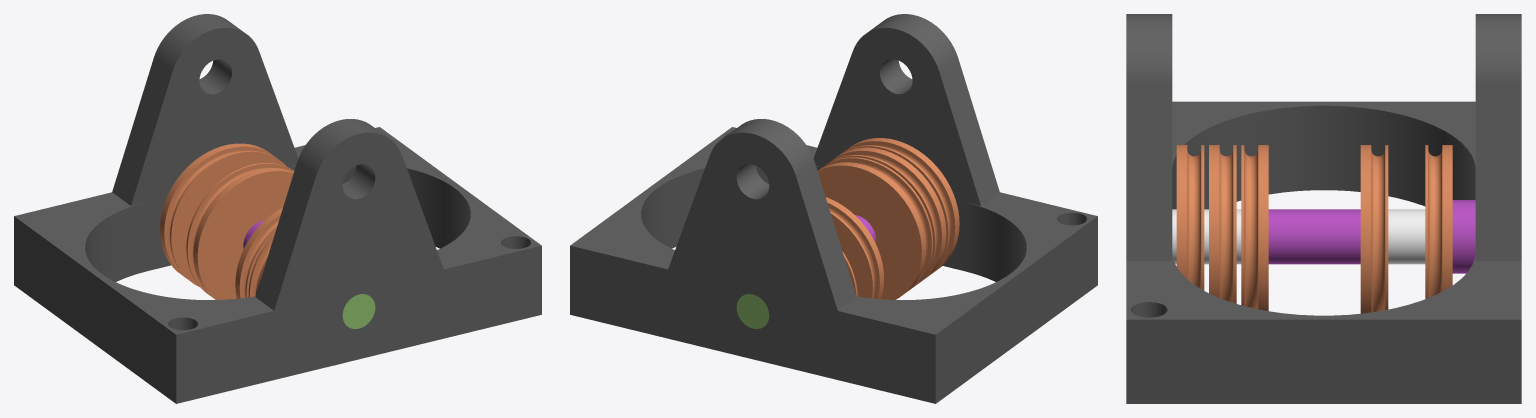
Rendered from holder.gltf.
The picture shows the model from 3 angles, left to right: view 1: azimuth 30°, elevation 25°; view 2: azimuth 150°, elevation 25°; view 3: azimuth 270°, elevation 25°; orthographic projection. The views are drawn at different scales.
Parts seen in each view (by area): view 1: Part 1 (×6); view 2: Part 1 (×6); view 3: Part 1 (×8).
Boxes of the visible parts, left/top/right/bottom form: Part 1 (×6): left=14, top=14, right=541, bottom=403; Part 1 (×6): left=570, top=14, right=1097, bottom=403; Part 1 (×8): left=1126, top=14, right=1521, bottom=403.
Size of the model in its own units: 0.056 by 0.036 by 0.043.
